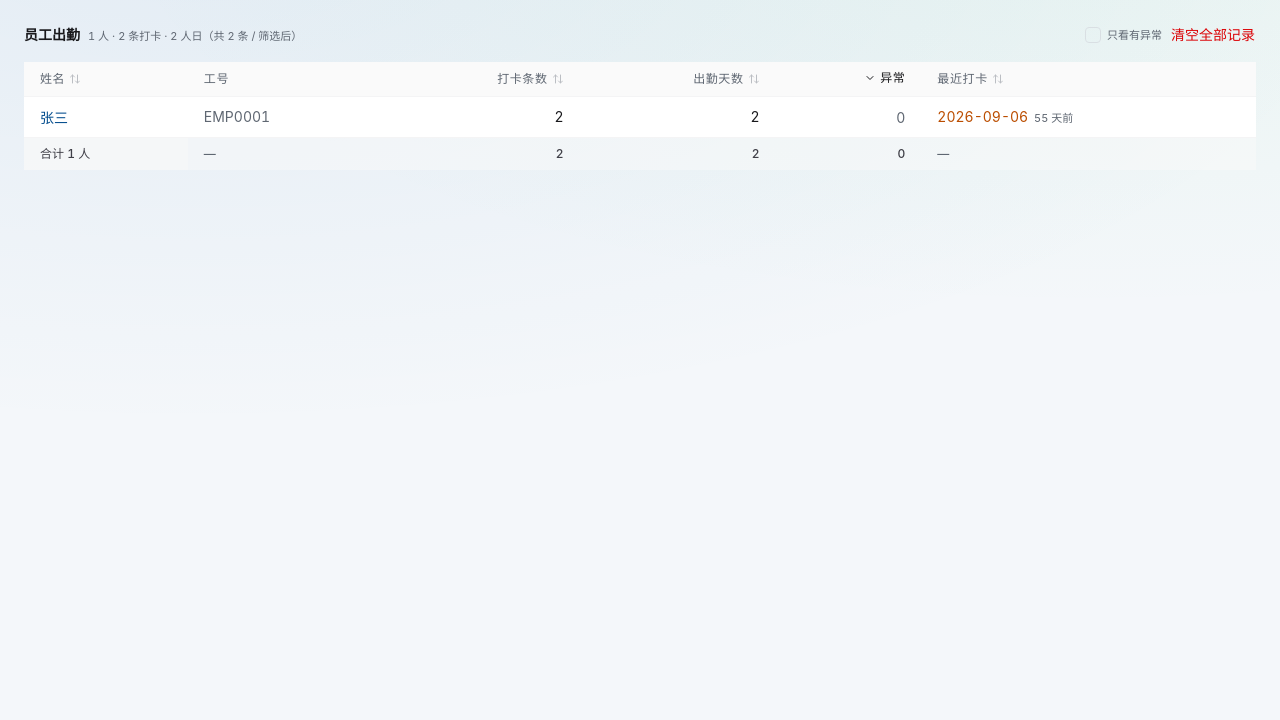
Scenario: 清空打卡记录的确认框 › 筛选生效时也报全库条数，并写明筛选下是多少
Click the button "清空全部记录" at (1213, 35), box [1170, 24, 1256, 46]
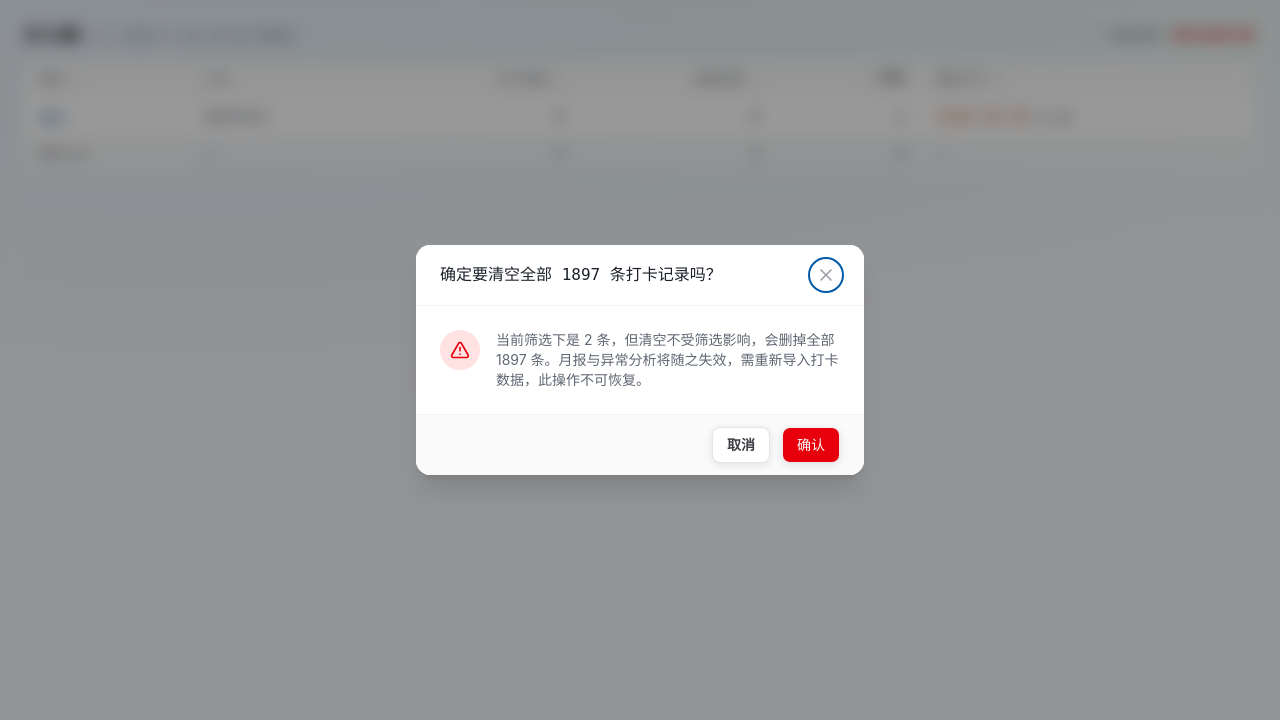
Check: the heading "确定要清空全部 1897 条打卡记录吗？" is shown, box [440, 263, 722, 287]
Check: the text "当前筛选下是 2 条" is shown, box [496, 331, 839, 388]
